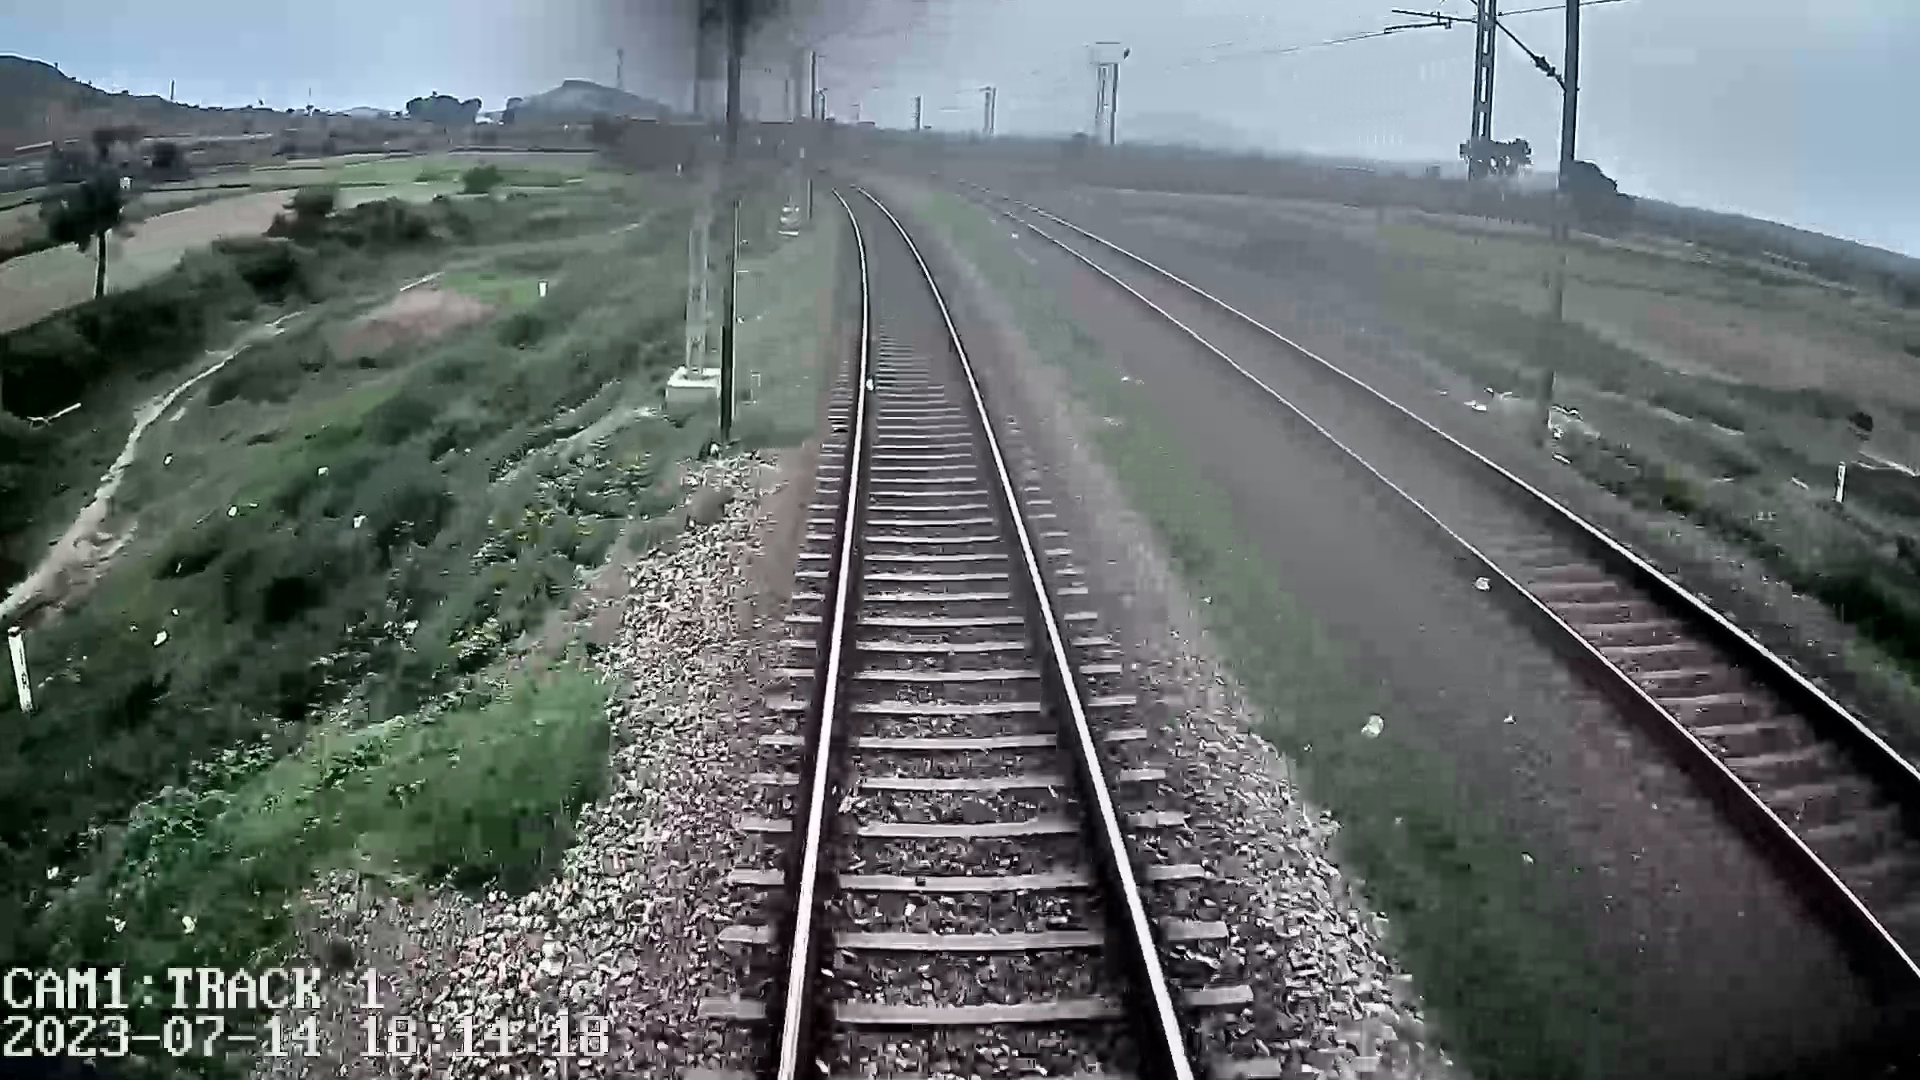track1: (787, 190, 1184, 1071)
track2: (1007, 208, 1917, 967)
